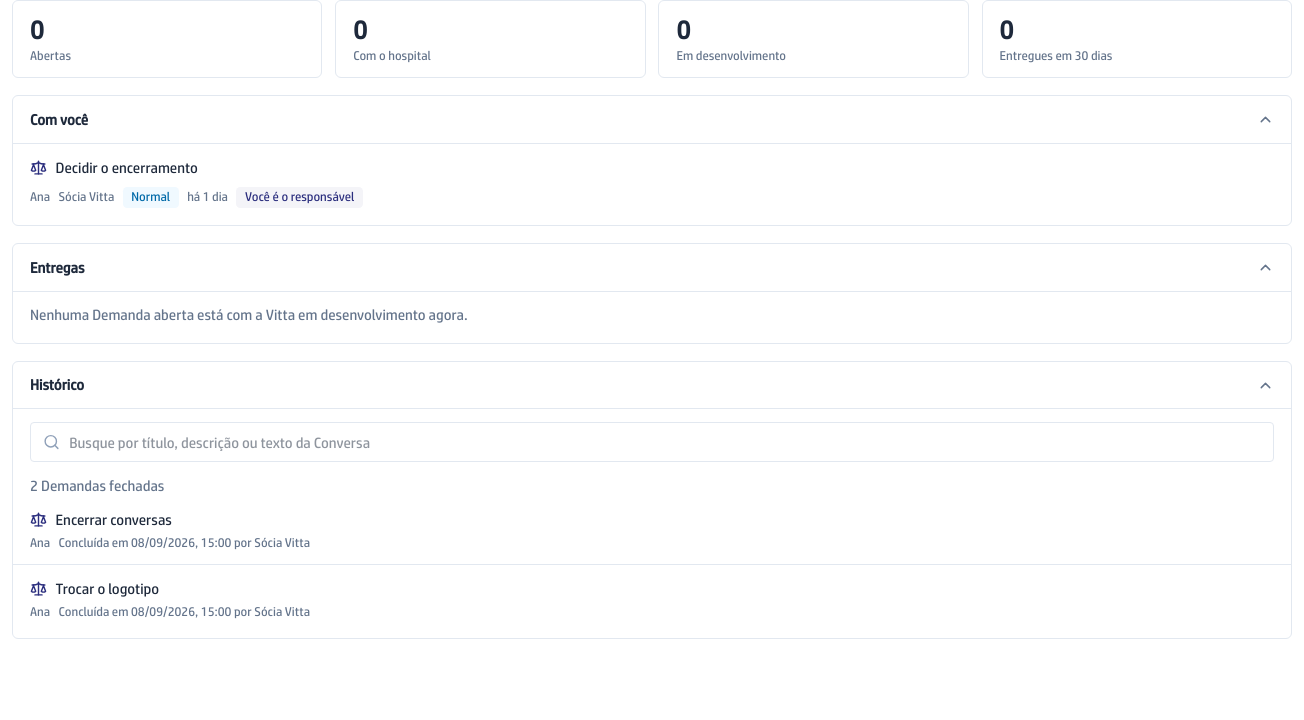
Test: Histórico › a busca não esconde os outros blocos
Expected: the text "Encerrar conversas" is shown, x1=56 y1=509 x2=172 y2=530
Type "logotipo" into the search field named "Buscar no Histórico". click: (652, 442)
box: x1=30 y1=422 x2=1274 y2=462
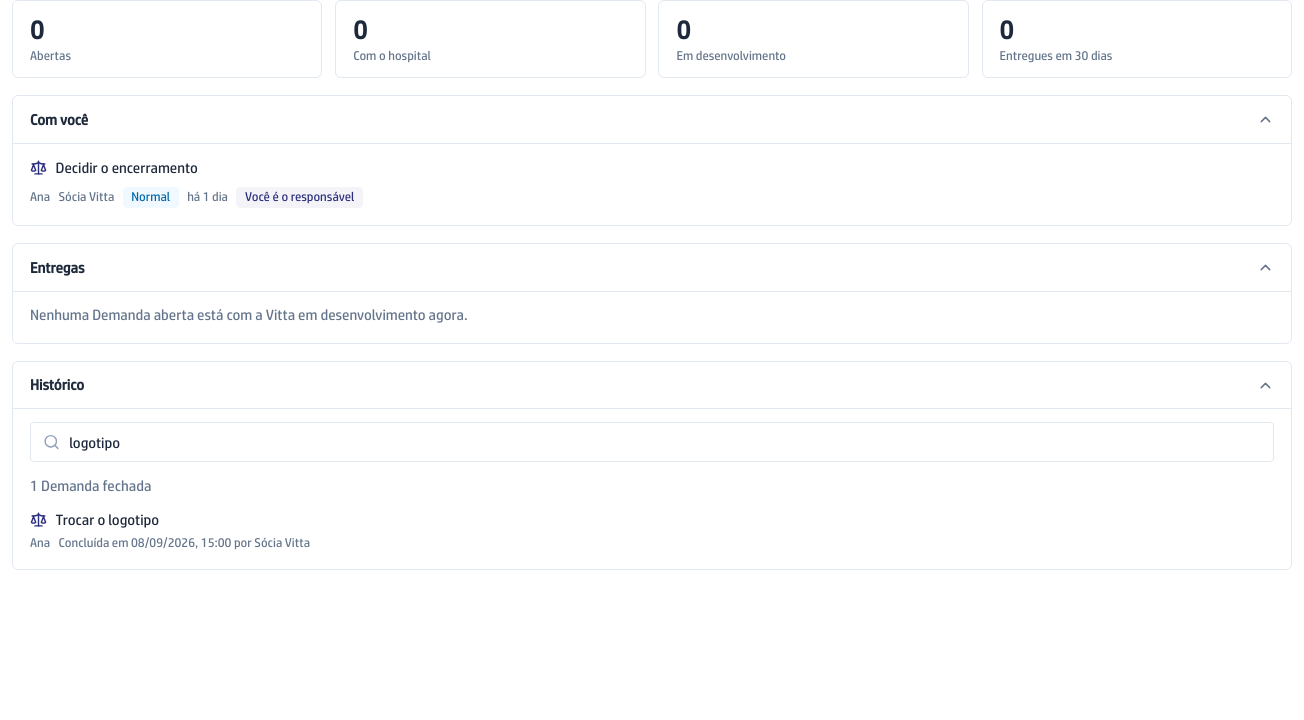
Expected: the text "Decidir o encerramento" is shown, x1=56 y1=157 x2=198 y2=178
Expected: the button "Encerrar conversas" is gone
